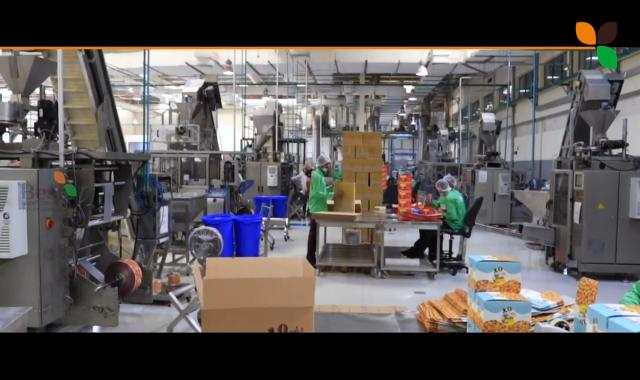hairnet: (314, 152, 332, 171), (436, 176, 451, 192)
